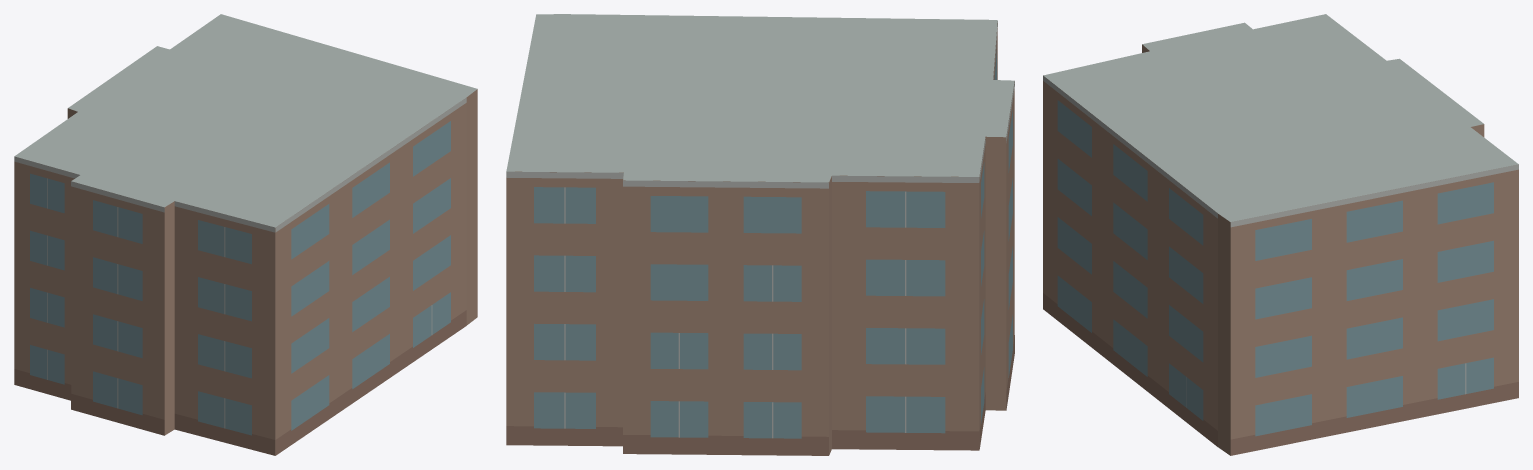
File: survey-upis-32486017.glb
3 renders of one model, left to right at view 1: azimuth 30°, elevation 25°; view 2: azimuth 150°, elevation 25°; view 3: azimuth 270°, elevation 25°, orthographic. The views are drawn at different scales.
Parts seen in each view (by area): view 1: survey-upis-32486017.tmp; view 2: survey-upis-32486017.tmp; view 3: survey-upis-32486017.tmp.
Boxes of the visible parts, x1,y1,x2,y2 form: survey-upis-32486017.tmp: [14, 14, 477, 455]; survey-upis-32486017.tmp: [506, 14, 1014, 455]; survey-upis-32486017.tmp: [1043, 14, 1518, 455].
Size of the model in its own units: 20.64 by 10.8 by 19.93.
